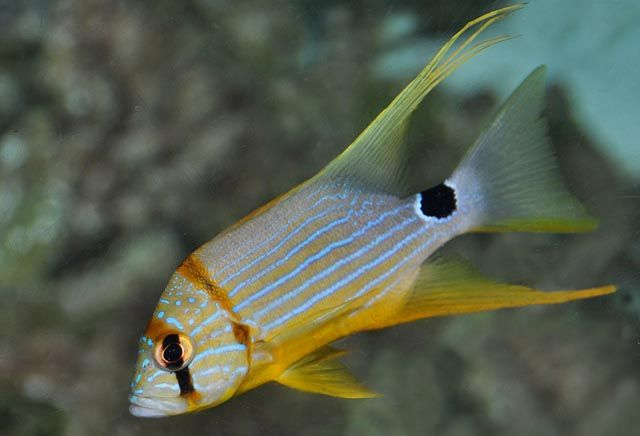fish: (127, 1, 620, 418)
